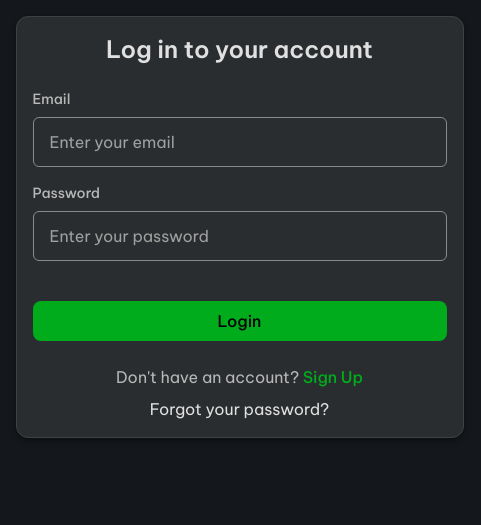
Test: LoginPage › displays a form-level error when login fails
Step 1. Type "u@example.test" into the field labelled "Email" → {"x": 240, "y": 142}, box [32,117,446,167]
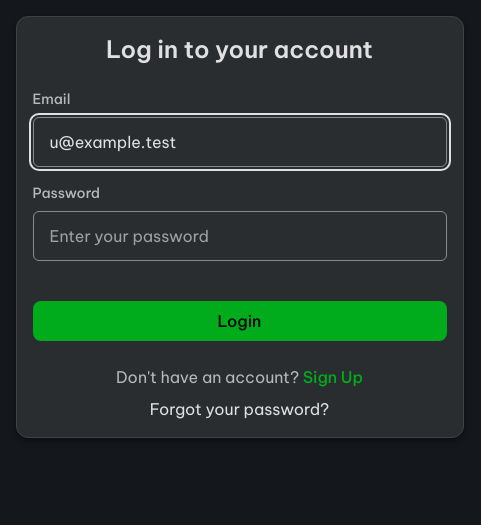
Step 2. Type "wrong" into the password field labelled "Password" → {"x": 240, "y": 236}, box [32,211,446,261]
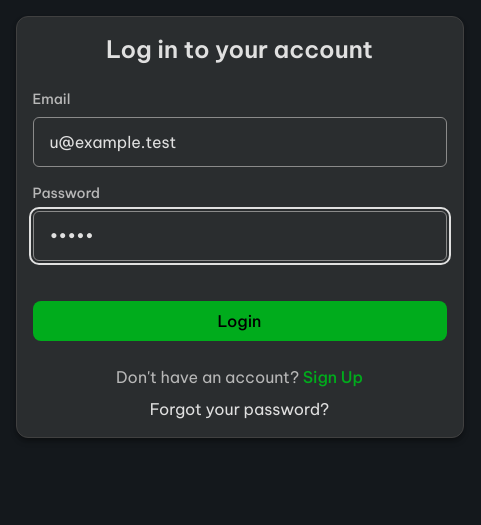
Step 3. Click the button "Login" → {"x": 240, "y": 321}, box [32,301,446,341]
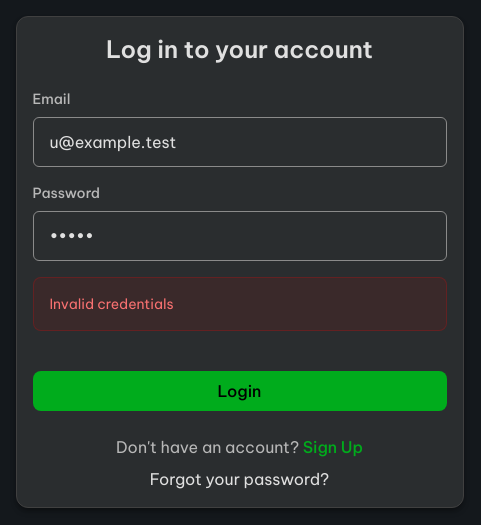
Now the message reads "Invalid credentials", box [50,295,174,313]
